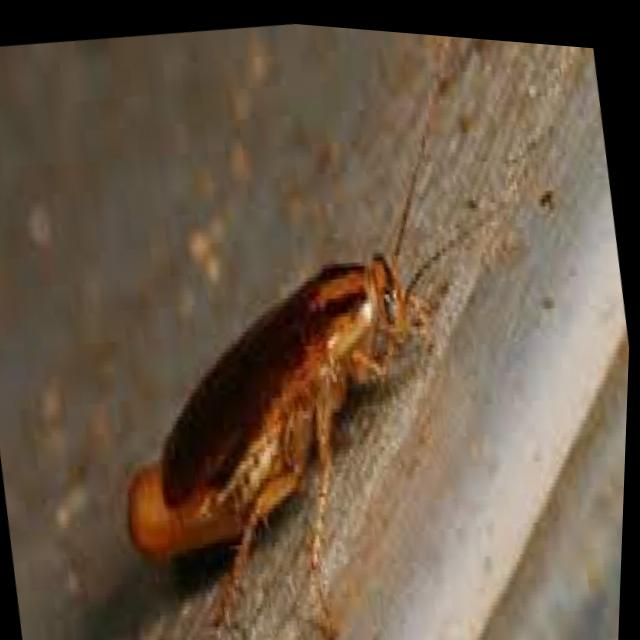Cockroach: (36, 4, 618, 640)
